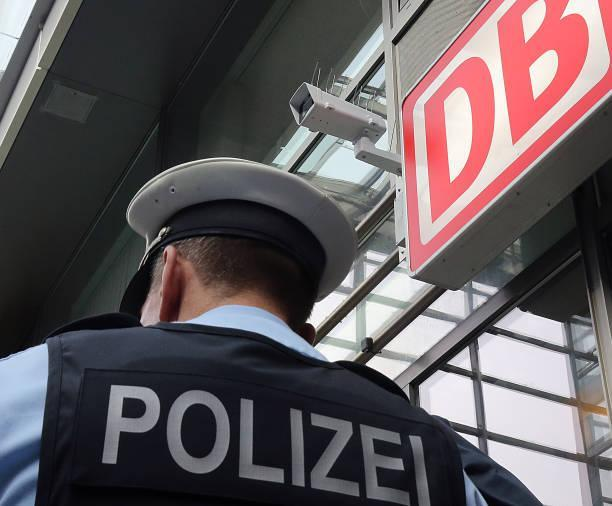camera: (284, 56, 396, 160)
